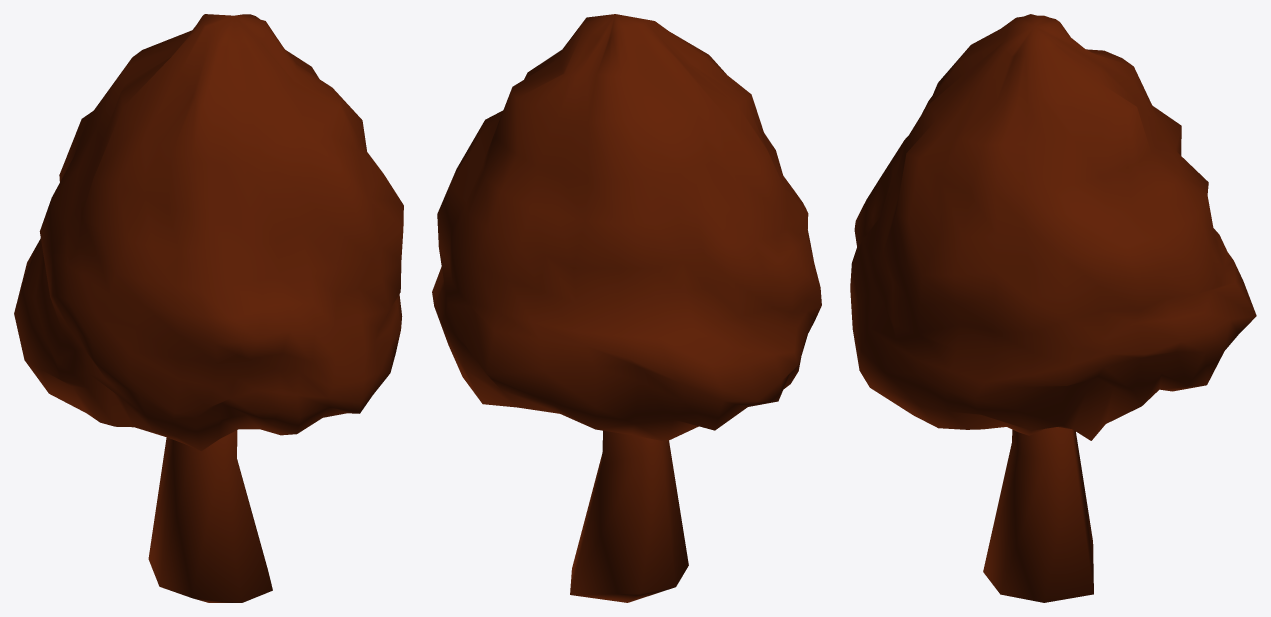
The model's file is arbreF2n.fbx.
The picture shows the model from 3 angles, left to right: view 1: azimuth 30°, elevation 25°; view 2: azimuth 150°, elevation 25°; view 3: azimuth 270°, elevation 25°; orthographic projection.
Parts seen in each view (by area): view 1: Sphere.013; view 2: Sphere.013; view 3: Sphere.013.
Part boxes in pixels (x1,y1,x2,y2): Sphere.013: (14, 14, 403, 602); Sphere.013: (432, 14, 821, 602); Sphere.013: (850, 14, 1256, 602).
Size of the model in its own units: 1736 by 2907 by 1855.
